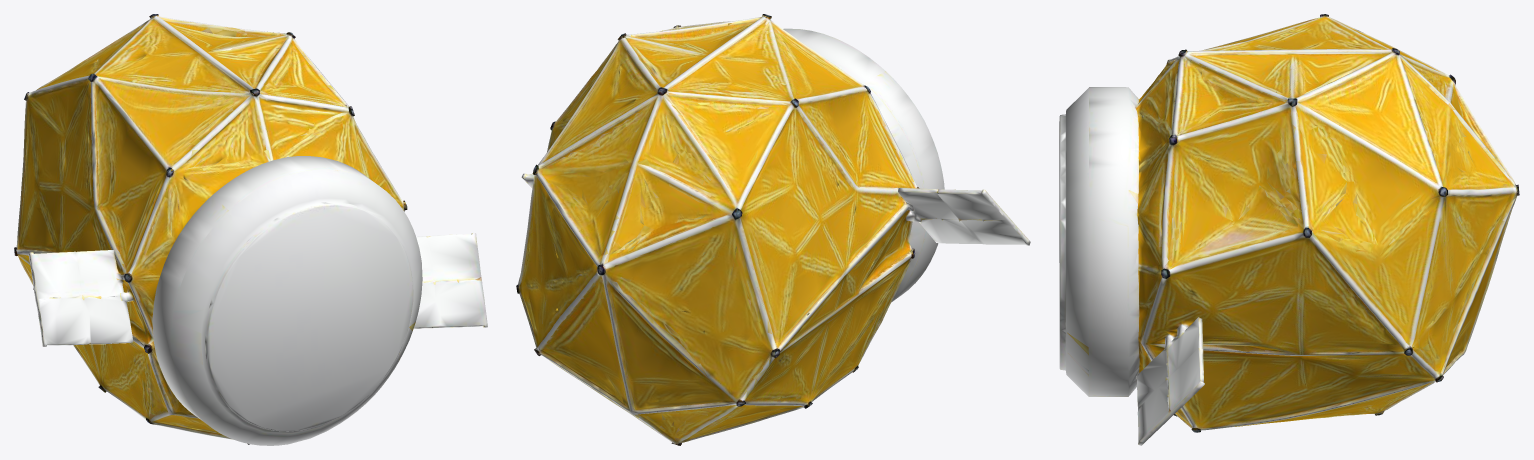
The model's file is sun_probe.glb.
3 views of the same model, side by side, from view 1: azimuth 30°, elevation 25°; view 2: azimuth 150°, elevation 25°; view 3: azimuth 270°, elevation 25° (orthographic). The views are drawn at different scales.
Visible parts, largest first — view 1: mesh; view 2: mesh; view 3: mesh.
Part boxes in pixels (x1,y1,x2,y2): mesh: (14,14,487,445); mesh: (516,14,1030,445); mesh: (1059,14,1519,445).
Size of the model in its own units: 0.3 by 0.2175 by 0.2462.
1 material, 1 textured.
